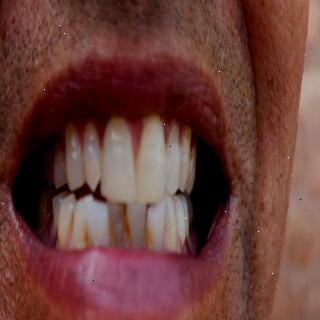calculus: (122, 212, 135, 250), (142, 216, 152, 258), (82, 220, 94, 252), (67, 210, 79, 240), (104, 215, 116, 242)
